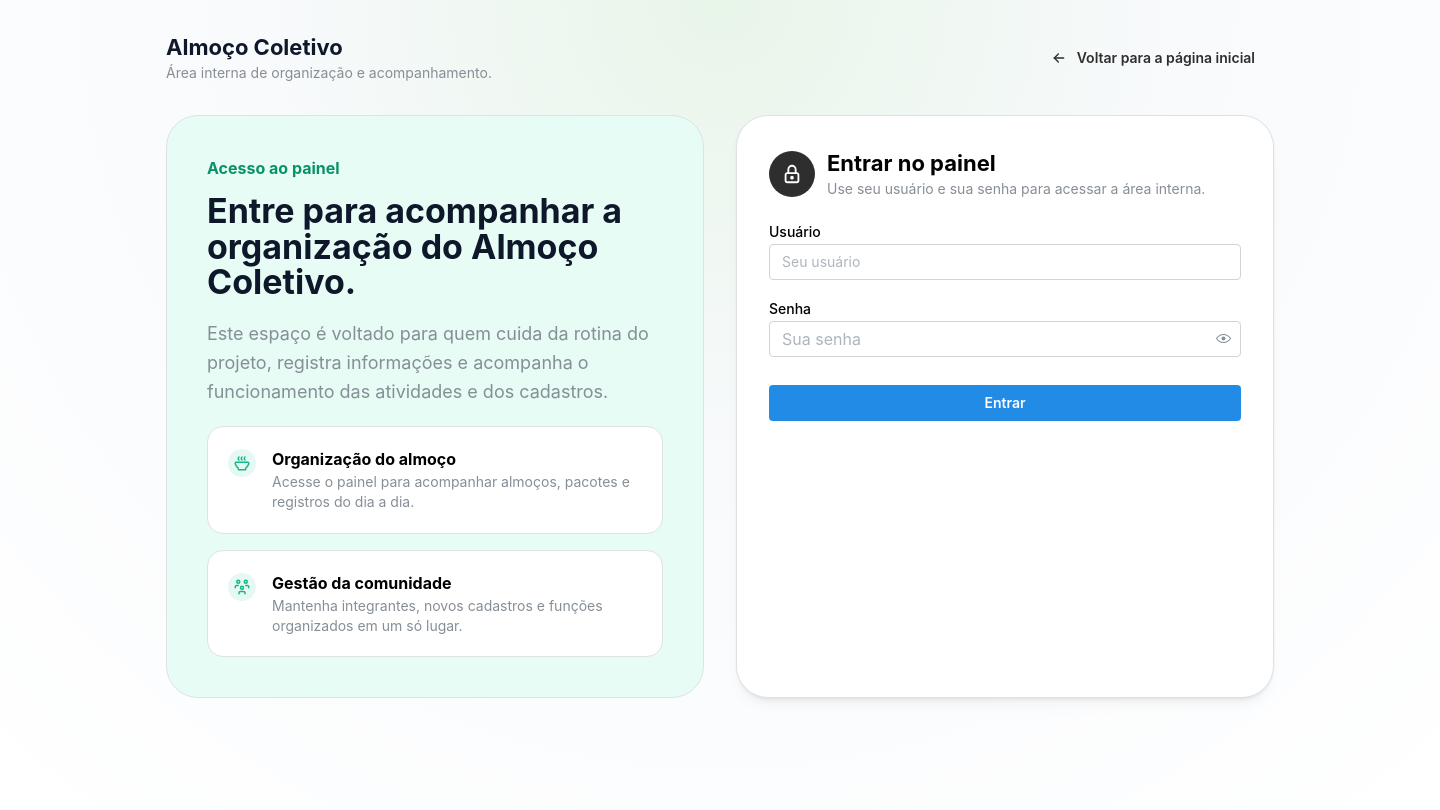
Test: LoginPage › does not report valid credentials as invalid when loading the session fails
Type "operador" into the field labelled "Usuário". click: (1005, 262)
box: [769, 244, 1241, 280]
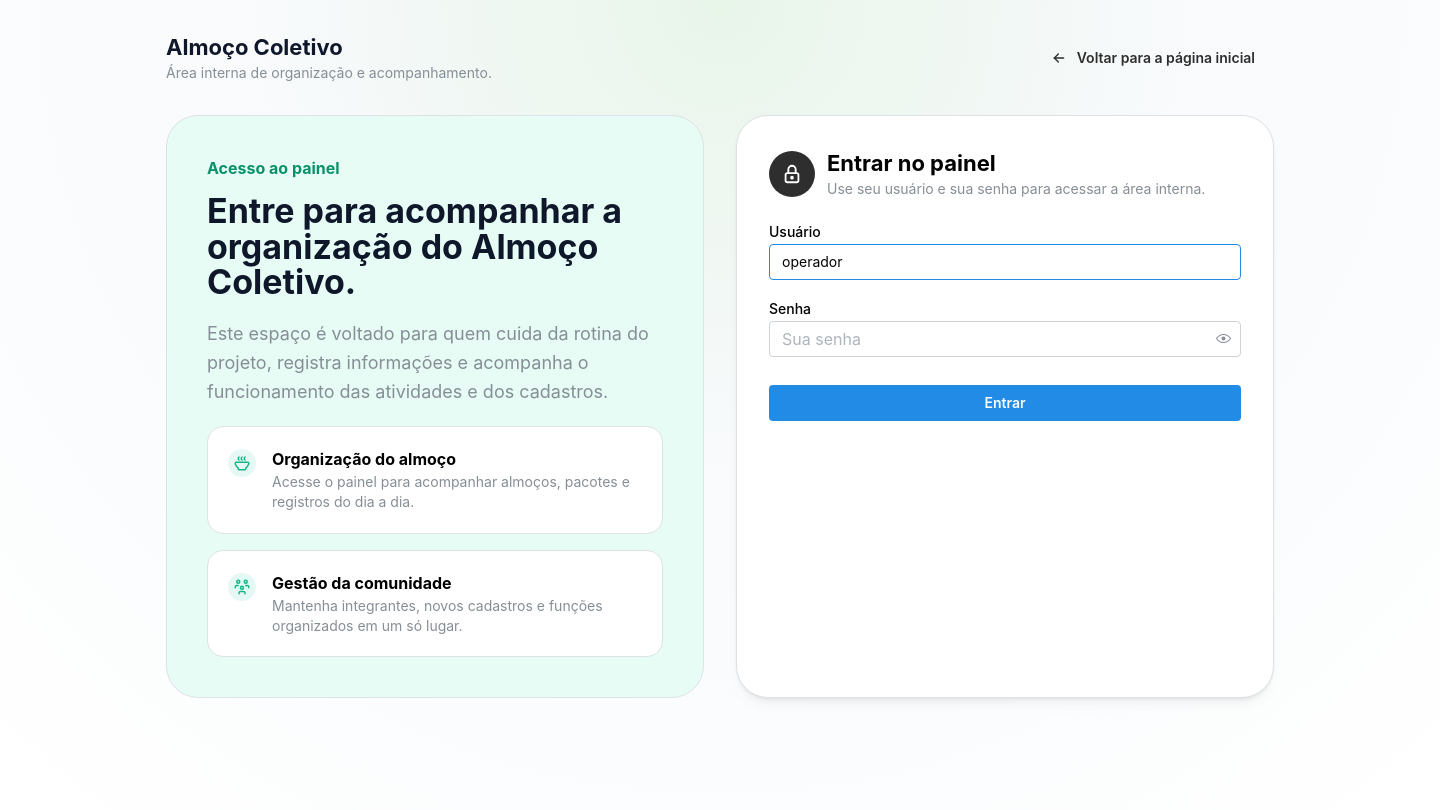
Type "senha-segura" into the password field labelled "Senha". click: (1005, 339)
box: [770, 322, 1240, 356]
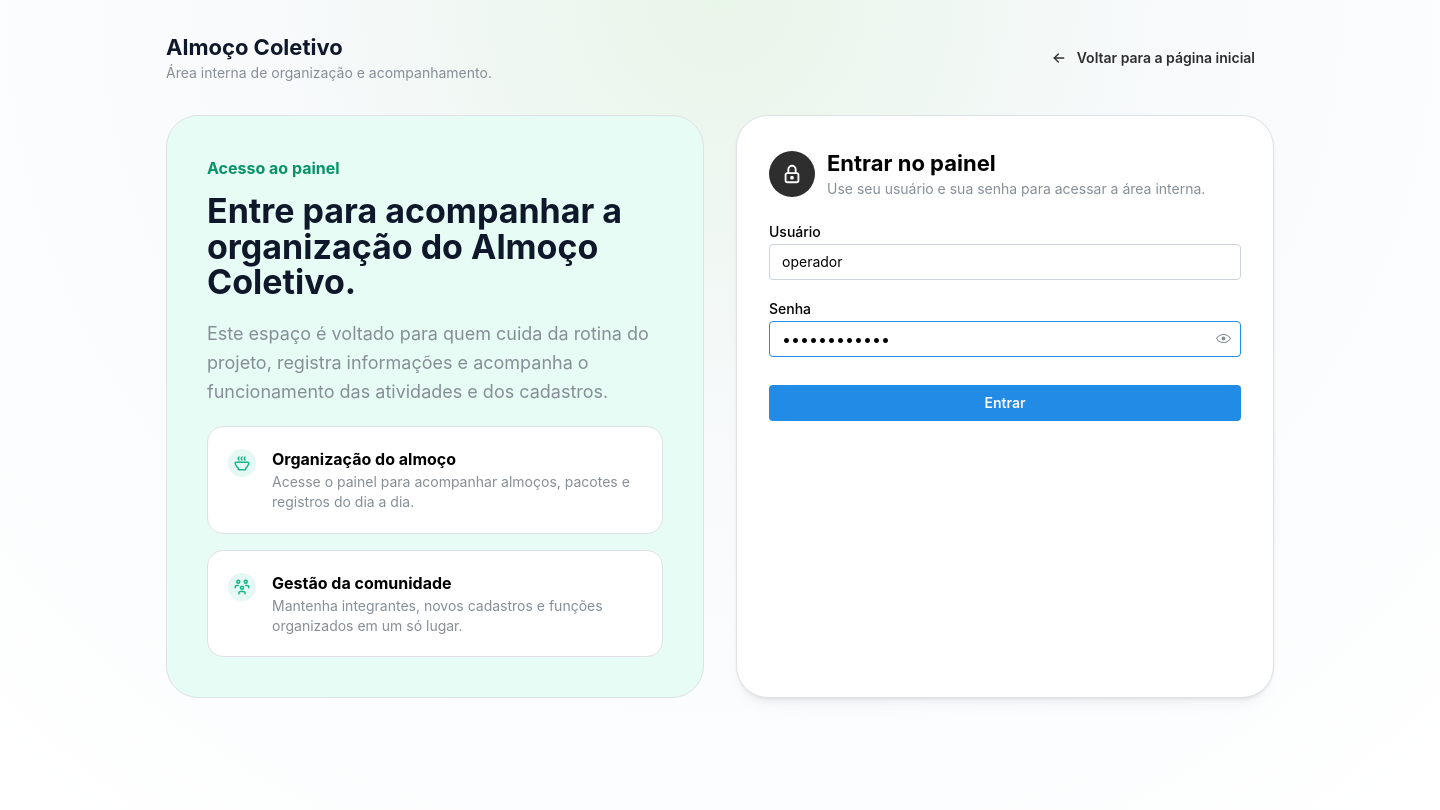
Click the button "Entrar". click: (1005, 403)
box: [769, 385, 1241, 421]
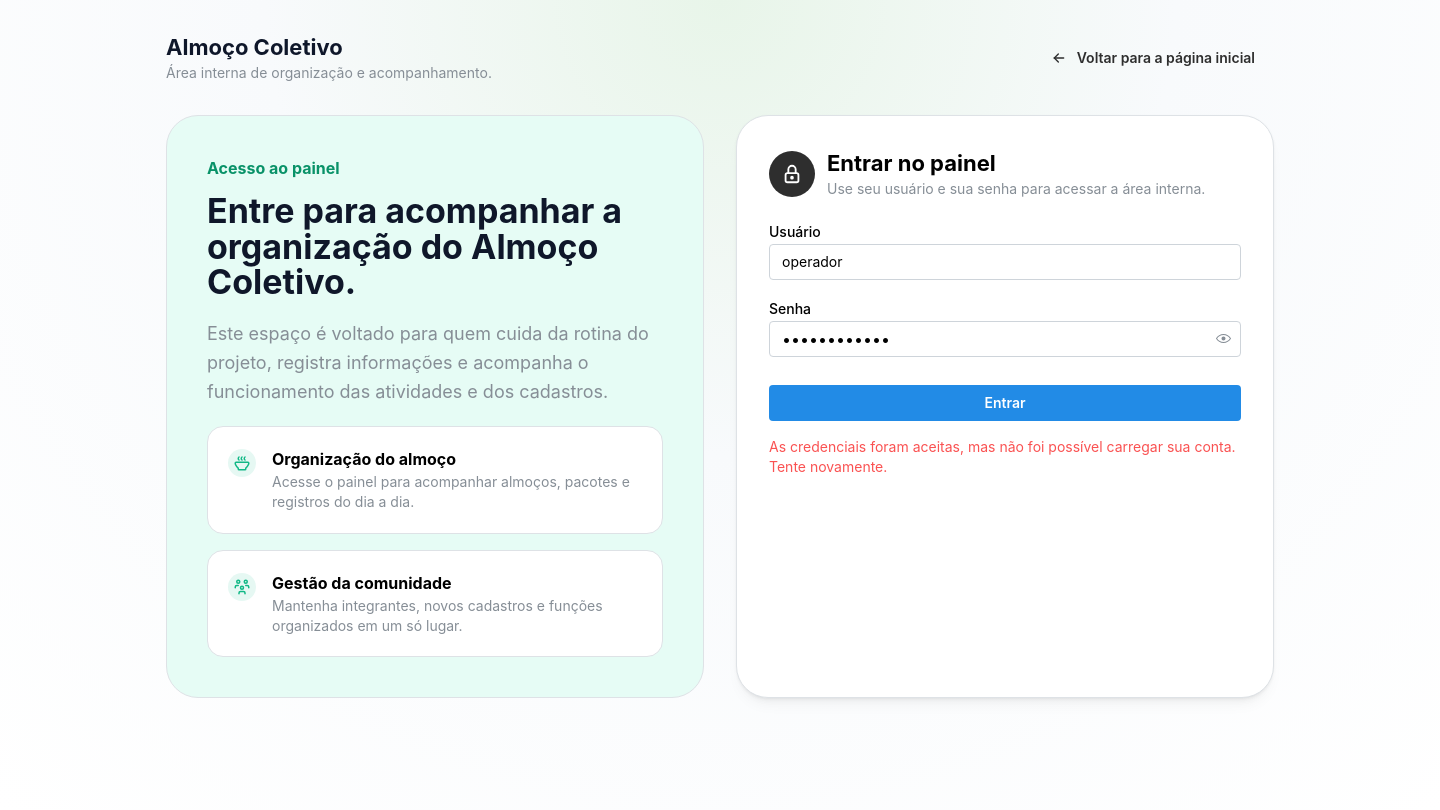
Check: the message does not show "Usuário ou senha inválidos", box [769, 437, 1241, 477]
Check: the message shows "As credenciais foram aceitas", box [769, 438, 1236, 475]
